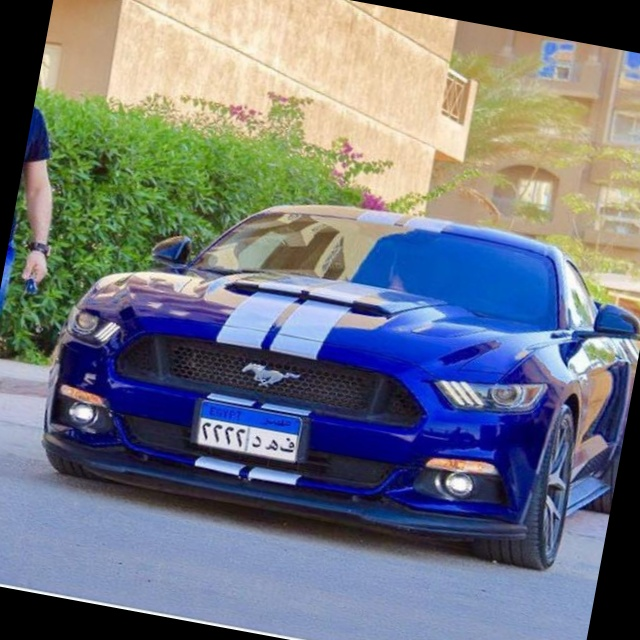License Plate: (191, 398, 307, 467)
